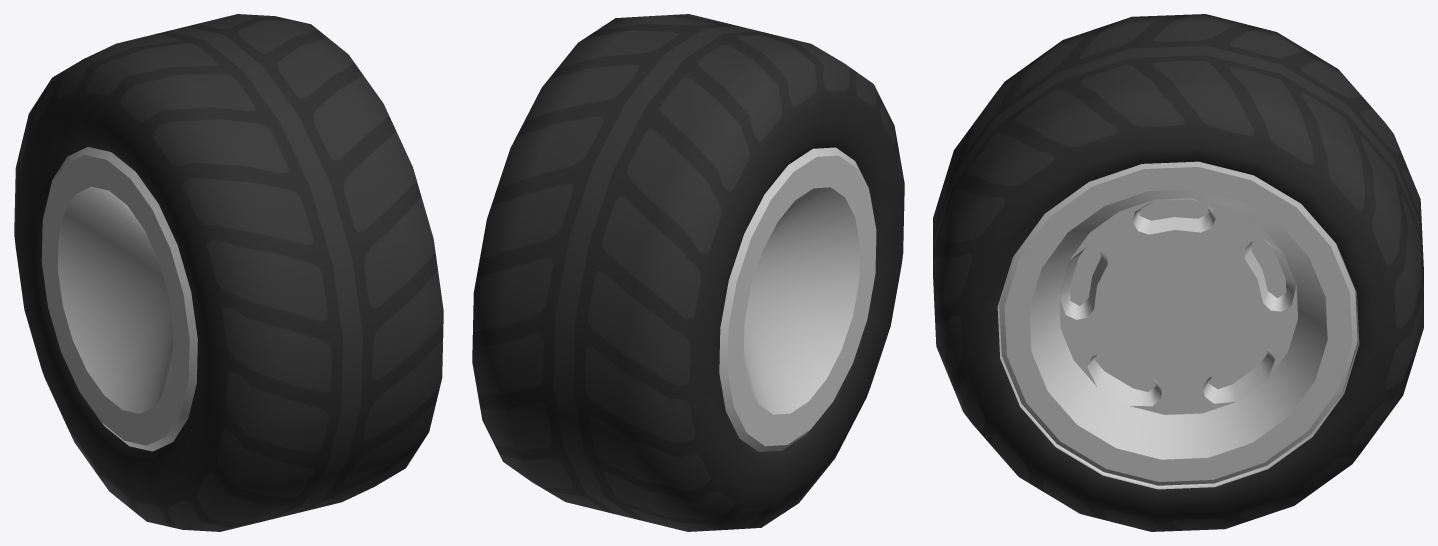
Rendered from Car_08_Wheel_BL.fbx.
3 views of the same model, side by side, from view 1: azimuth 30°, elevation 25°; view 2: azimuth 150°, elevation 25°; view 3: azimuth 270°, elevation 25° (orthographic).
Parts seen in each view (by area): view 1: Car_08_Wheel_BL; view 2: Car_08_Wheel_BL; view 3: Car_08_Wheel_BL.
Boxes of the visible parts, <box> form: Car_08_Wheel_BL: <box>14,14,443,531</box>; Car_08_Wheel_BL: <box>472,14,904,531</box>; Car_08_Wheel_BL: <box>933,14,1423,531</box>.
Bounding box in the file's own units: 49.45 × 94.77 × 94.77.
